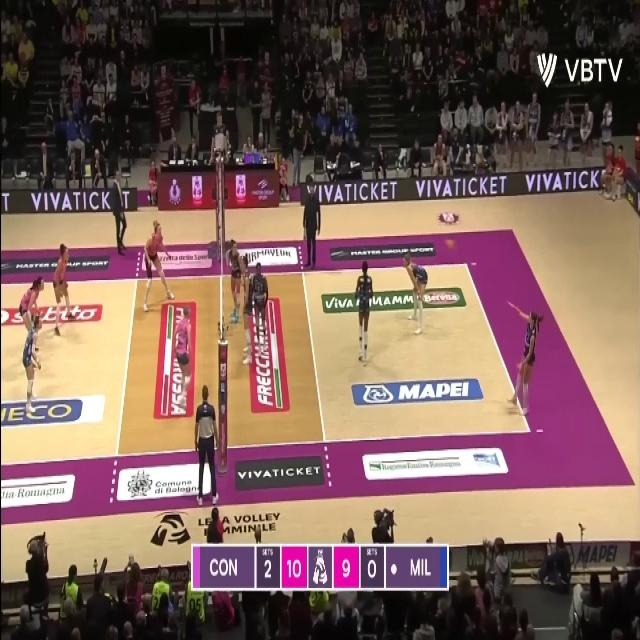volleyball court: (1, 261, 531, 466)
